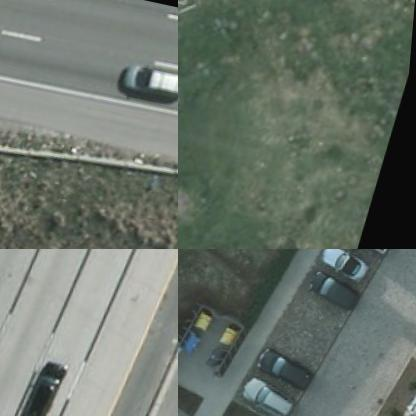car: (16, 355, 79, 415), (253, 350, 322, 390), (117, 60, 177, 103), (300, 274, 362, 313), (239, 379, 303, 415), (316, 249, 374, 281)
